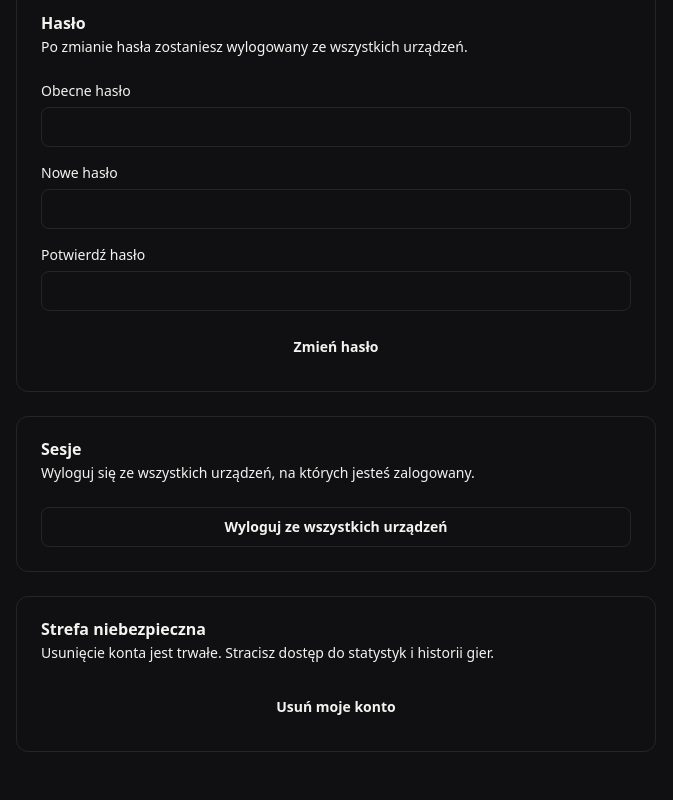
Test case: SettingsPage › redirects to home after logout all
The width and height of the screenshot is (673, 800).
(page scrolled)
Step 1. Click the button "Wyloguj ze wszystkich urządzeń" → {"x": 336, "y": 527}, box [41,507,631,547]
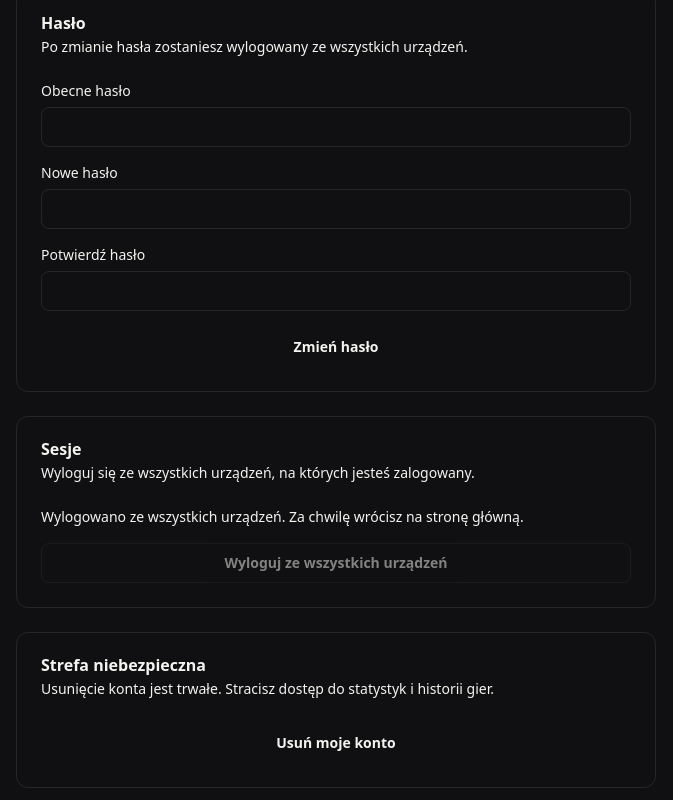
Expected: the text "Wylogowano ze wszystkich urządzeń. Za chwilę wrócisz na stronę główną." is shown, [41,507,524,526]
